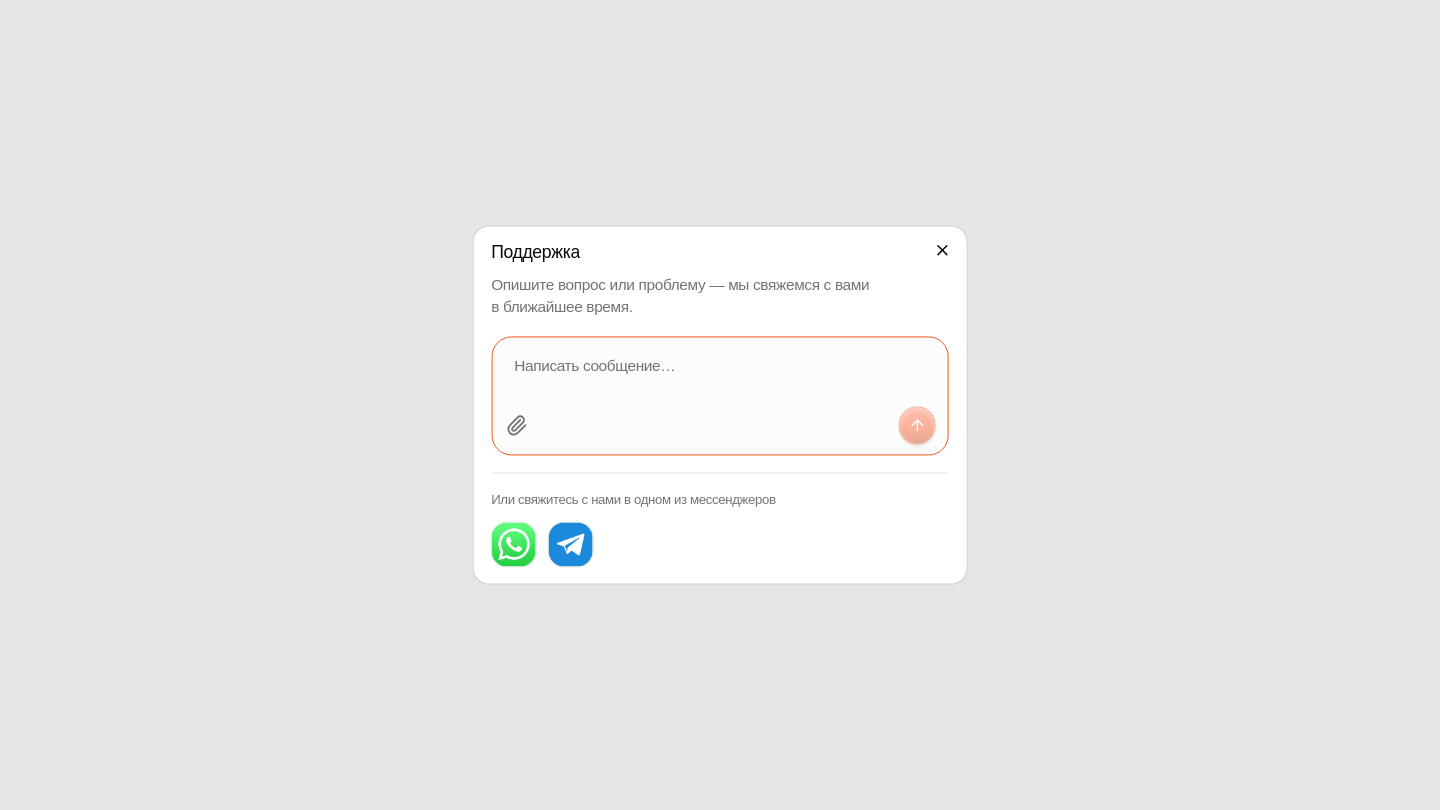
Test: SupportDialog › surfaces a throttle message on 429
The width and height of the screenshot is (1440, 810).
Type "Срочный вопрос" into the text box at (720, 373), box [492,337,948,408]
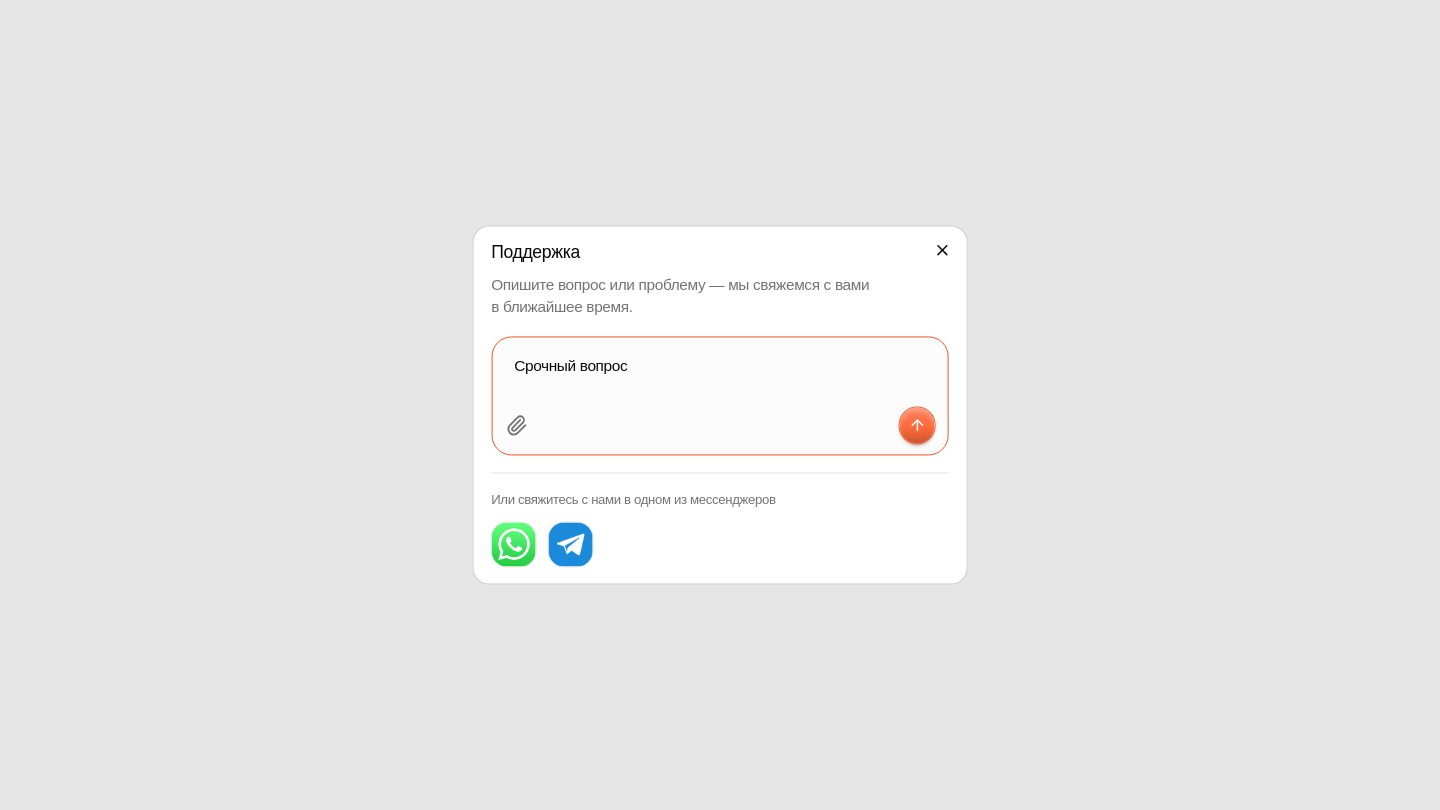
Click the button named "Отправить" at (917, 425), box [899,408,935,443]
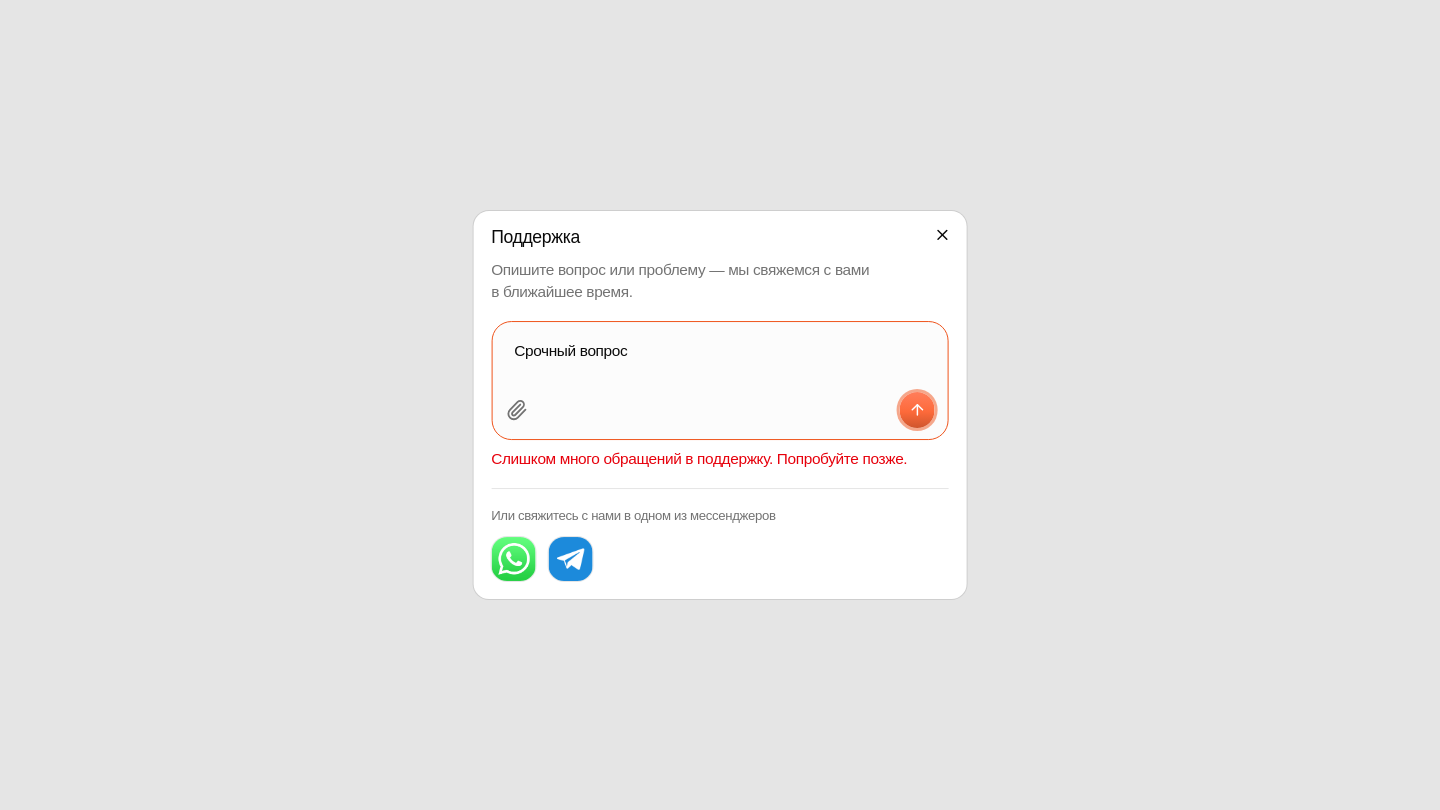
Expected: the message shows "Слишком много обращений", [491,450,907,467]
